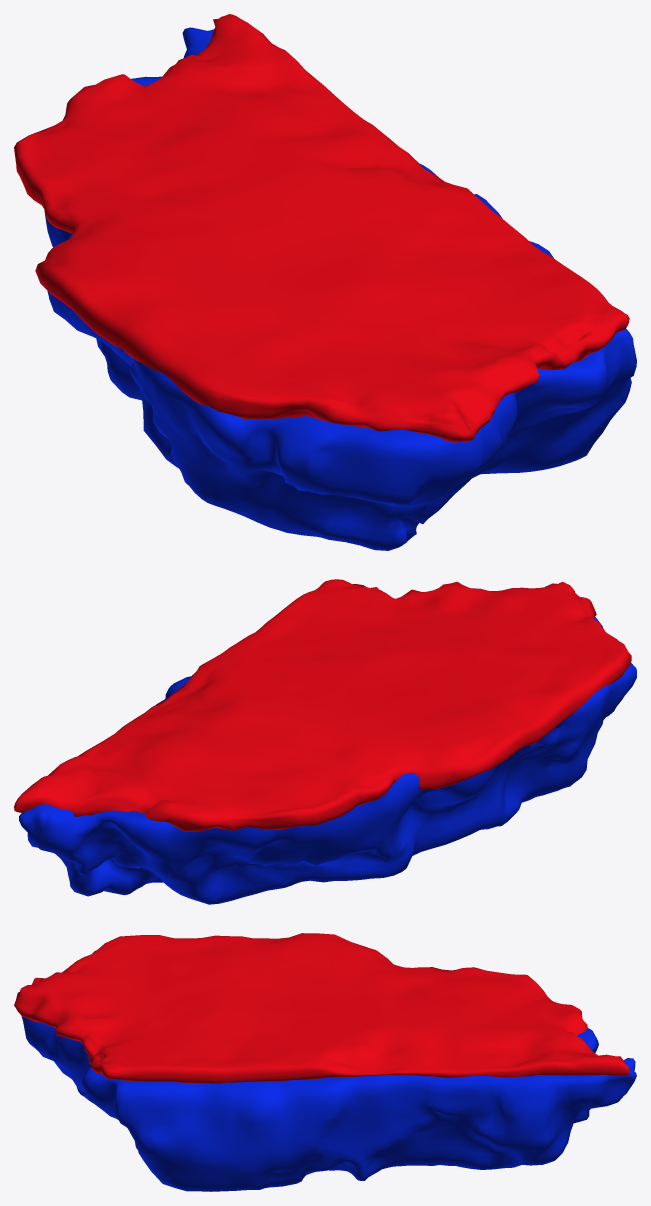
The model's file is BP_ConcreteFloor_3.fbx.
3 renders of one model, top to bottom at view 1: azimuth 30°, elevation 25°; view 2: azimuth 150°, elevation 25°; view 3: azimuth 270°, elevation 25°, orthographic. The views are drawn at different scales.
Parts seen in each view (by area): view 1: BP_ConcreteFloor_3; view 2: BP_ConcreteFloor_3; view 3: BP_ConcreteFloor_3.
Boxes of the visible parts, x1,y1,x2,y2 form: BP_ConcreteFloor_3: [14, 14, 636, 550]; BP_ConcreteFloor_3: [14, 579, 636, 904]; BP_ConcreteFloor_3: [14, 933, 636, 1191].
Size of the model in its own units: 557 by 232 by 1009.
